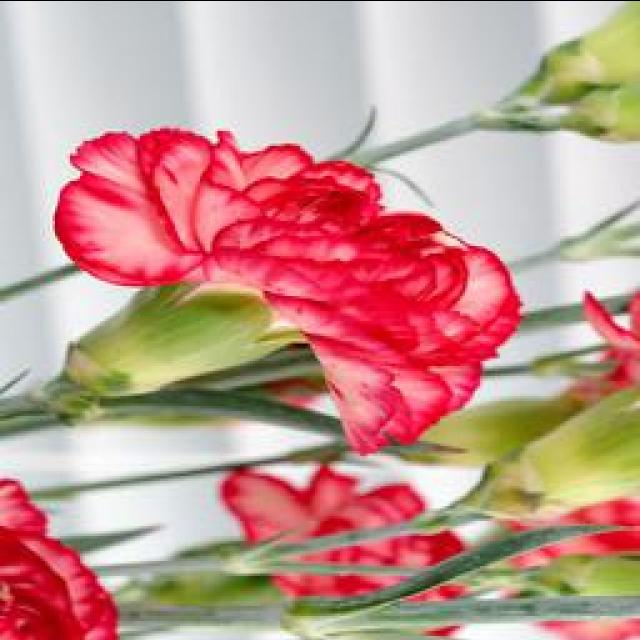carnation: (51, 90, 540, 459)
